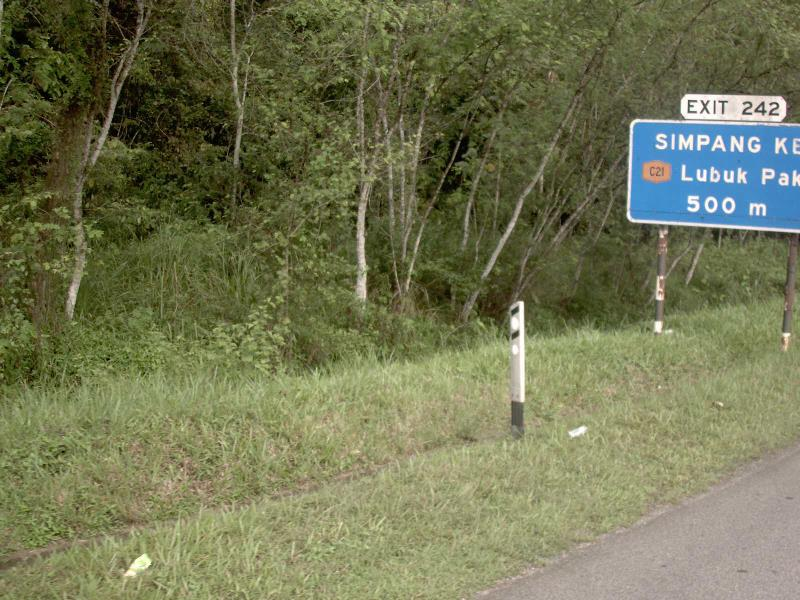traffic_sign: (617, 92, 798, 251)
